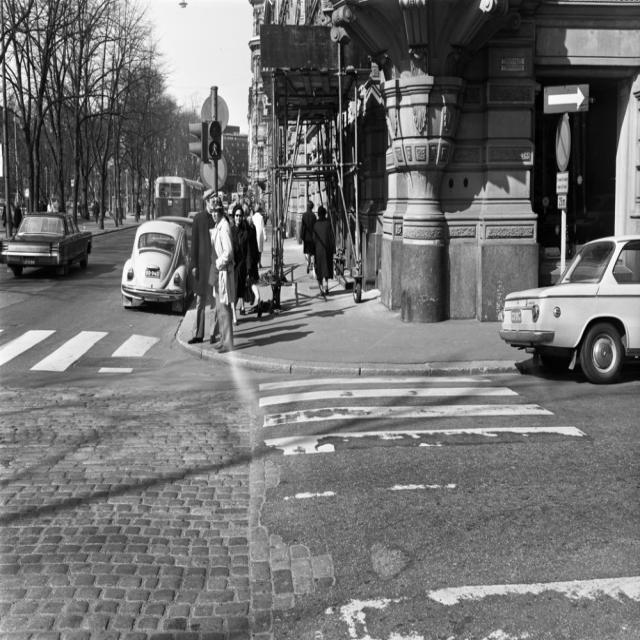body: (186, 187, 220, 346), (208, 195, 236, 354), (230, 320, 316, 351), (242, 202, 264, 320), (311, 204, 337, 298), (230, 204, 251, 318), (299, 199, 317, 276), (251, 203, 267, 270), (239, 196, 256, 221), (37, 199, 46, 229), (13, 204, 22, 230), (93, 200, 100, 223), (46, 199, 55, 214), (210, 140, 218, 156), (136, 200, 142, 220), (2, 204, 6, 228)
